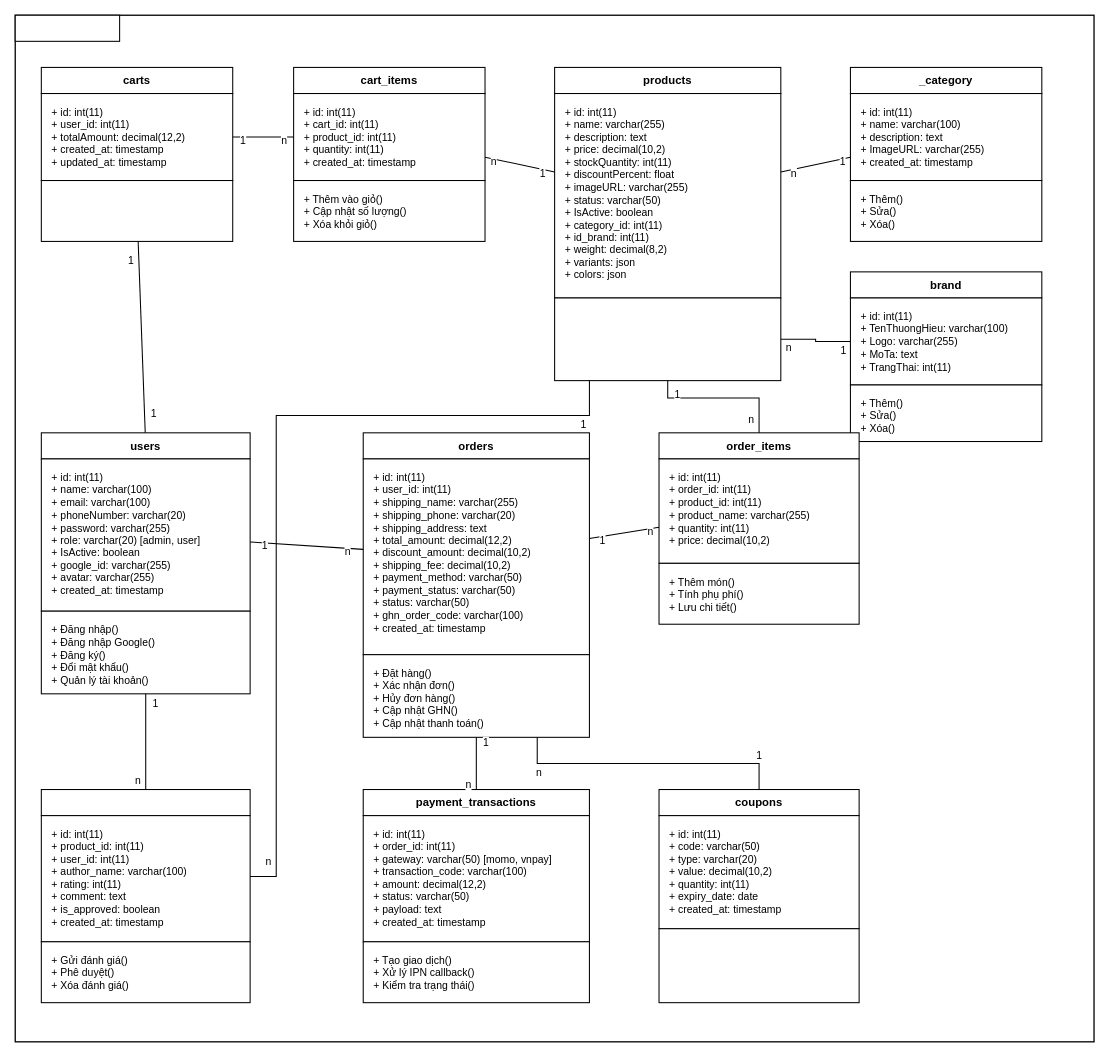
This 1110x1058 diagram has some shape labels left out. The shapes that lost their labels are listed below. From the top down, each one's centre as x and y in pixels, then its label:
At [67,27]: "SƠ ĐỒ LỚP".
At [136,211]: "+ calculateTotal() + updateTotal() + clearCart()".
At [667,339]: "+ Thêm() + Sửa() + Xóa() + Tìm kiếm() + autocomplete_ajax()".
At [145,802]: "product_reviews".
At [758,965]: "+ Thêm mã() + Kiểm tra mã() + Áp dụng giảm giá() + Xóa mã()".
